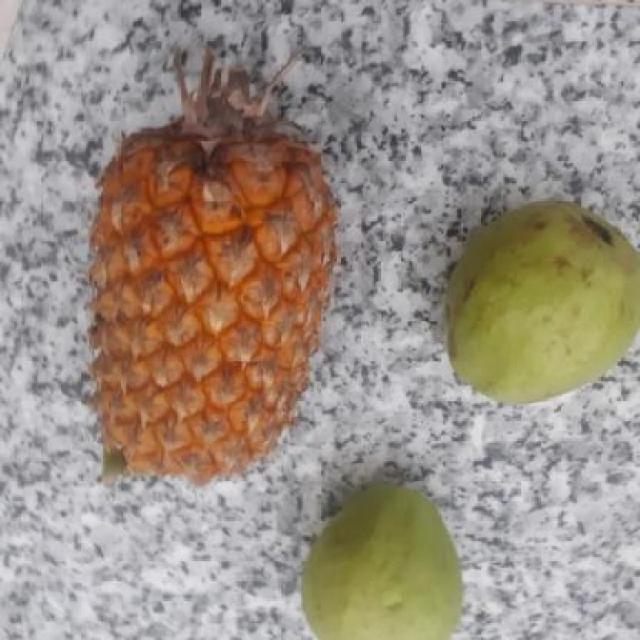guava: (433, 207, 639, 401), (295, 487, 467, 639)
pineapple: (83, 106, 340, 497)
